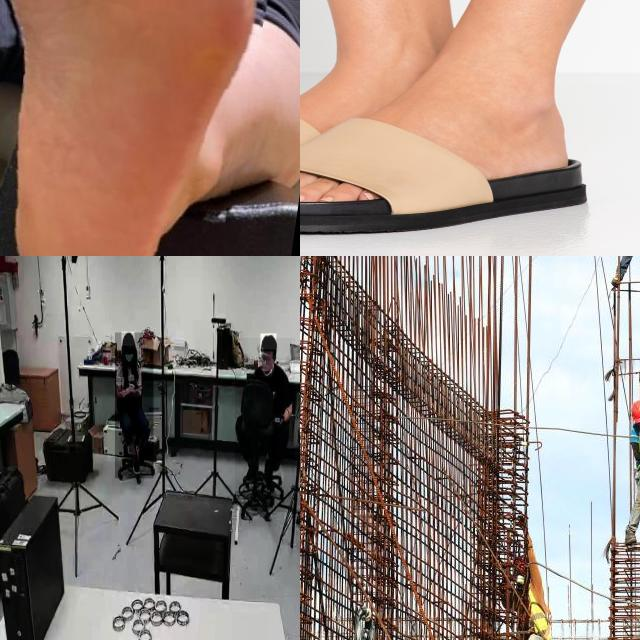Barefoots: (0, 0, 272, 256)
Sandals: (300, 62, 586, 234)
boots: (623, 528, 636, 543), (612, 276, 622, 286)
face_mask: (121, 348, 137, 372)
face_nomask: (260, 351, 274, 372)
hand_noglove: (272, 411, 286, 427)
head_helmet: (631, 401, 640, 424)
head_nohelmet: (261, 334, 277, 351), (121, 332, 135, 346)
person: (235, 338, 295, 512), (115, 333, 154, 479), (612, 393, 640, 543), (614, 392, 640, 551)
vest: (521, 585, 552, 639)
